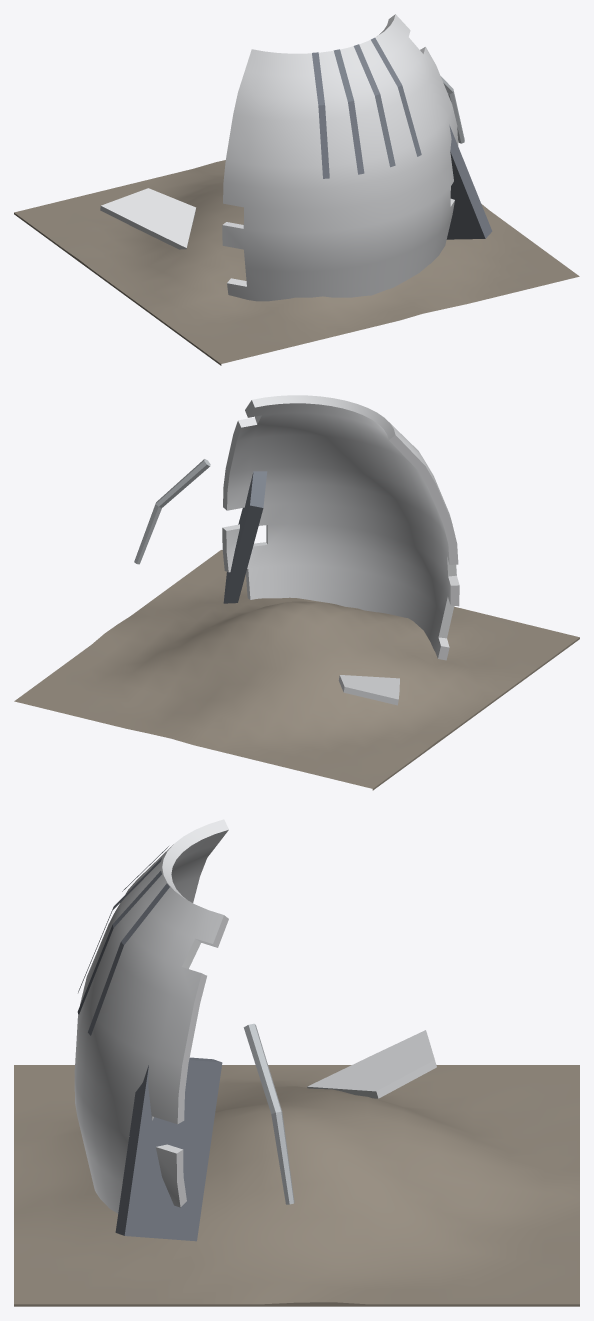
File: ufo-crash-site-and-recovery-facility-embedded-fragment-c49fbd38__17333.glb
3 renders of one model, top to bottom at view 1: azimuth 30°, elevation 25°; view 2: azimuth 150°, elevation 25°; view 3: azimuth 270°, elevation 25°, orthographic. The views are drawn at different scales.
Visible parts, largest first — view 1: embedded-fragment-in-soil; view 2: embedded-fragment-in-soil; view 3: embedded-fragment-in-soil.
Boxes of the visible parts, left/top/right/bottom form: embedded-fragment-in-soil: left=14, top=14, right=579, bottom=365; embedded-fragment-in-soil: left=14, top=395, right=579, bottom=790; embedded-fragment-in-soil: left=14, top=819, right=579, bottom=1306.
Size of the model in its own units: 4.2 by 2.63 by 4.2.
